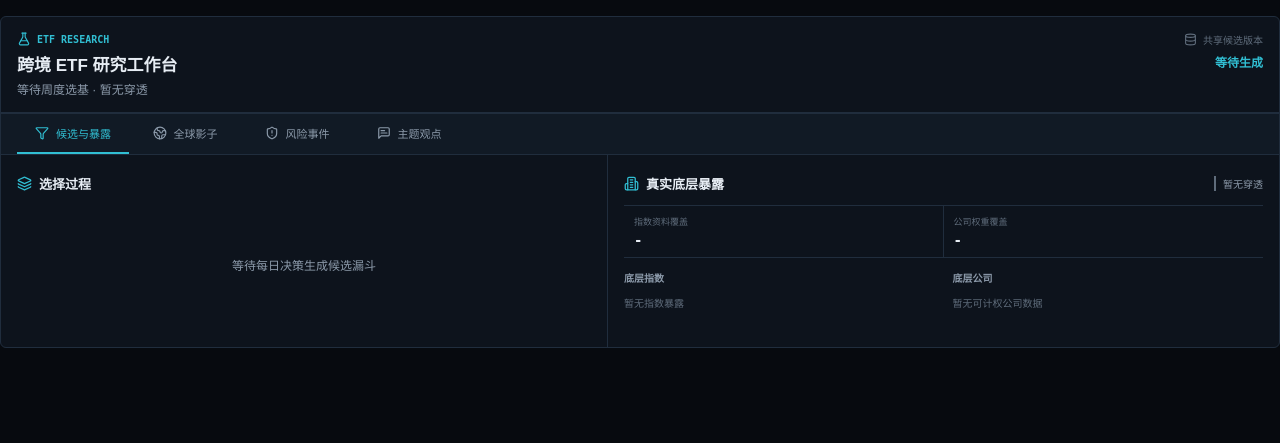
Test case: ETF research panel › switches between shadow, event and theme research views
Click the button "全球影子" at (185, 134), box [129,114,241,154]
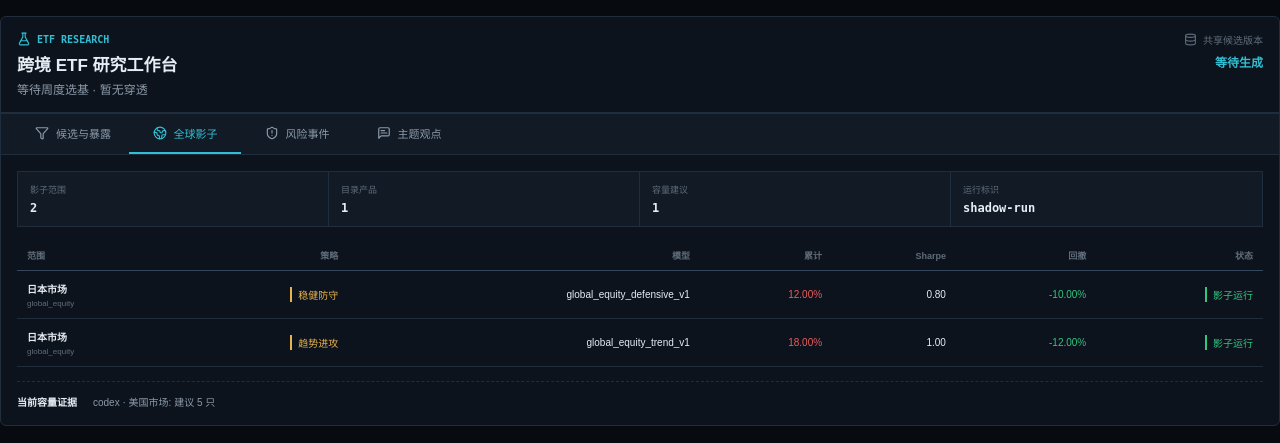
expect the text "日本市场" is shown 2 times: met, box [27,284,67,295]; [27,332,67,343]
expect the text "12.00%" is shown: met, box [700,271,832,319]
expect the text "稳健防守" is shown: met, box [290,287,338,302]
Click the button "风险事件" at (297, 134), box [241,114,353,154]
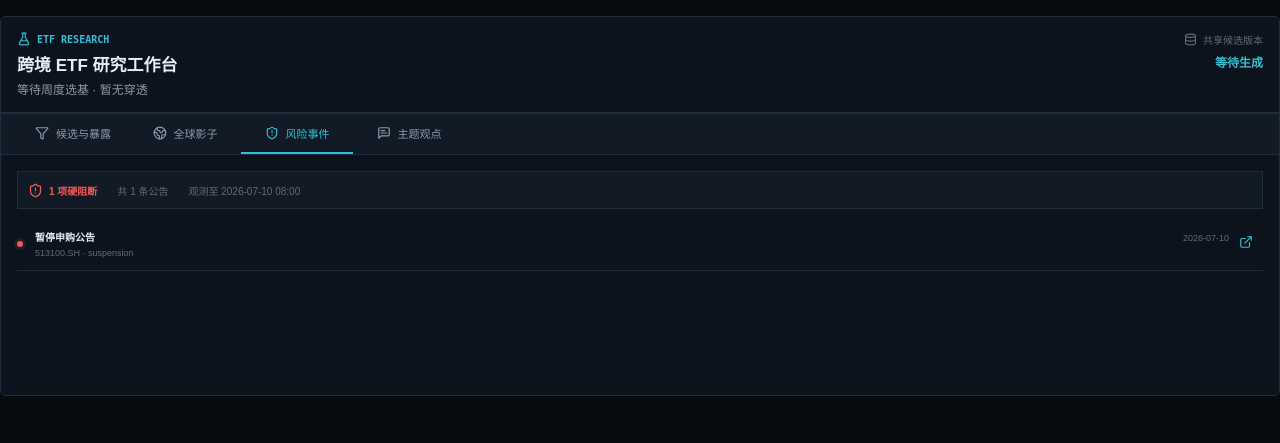
expect the text "暂停申购公告" is shown: met, box [35,229,95,244]
expect the text "1 项硬阻断" is shown: met, box [28,183,97,198]
Click the button "主题观点" at (409, 134), box [353,114,465,154]
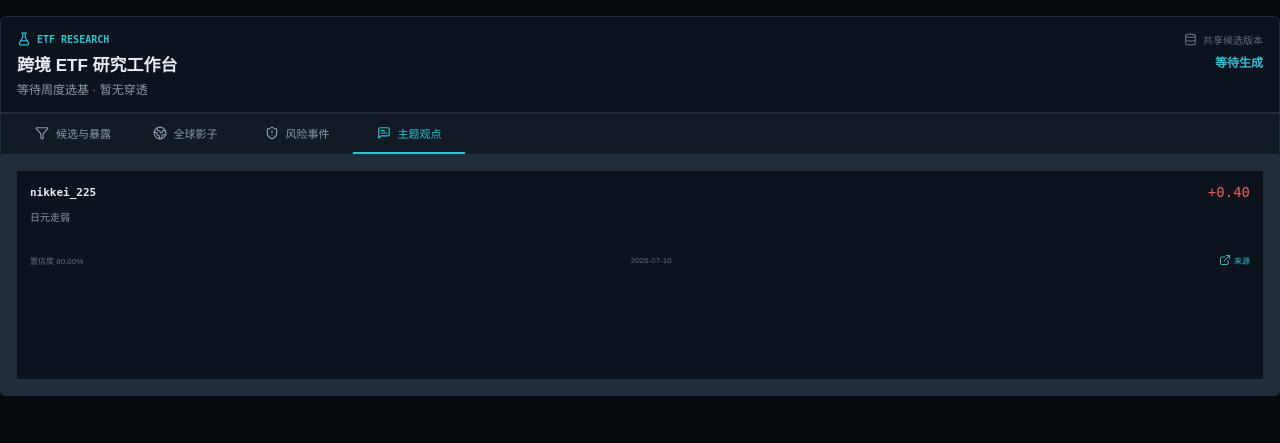
expect the text "nikkei_225" is shown: met, box [30,186,96,199]
expect the text "日元走弱" is shown: met, box [30,212,70,223]
